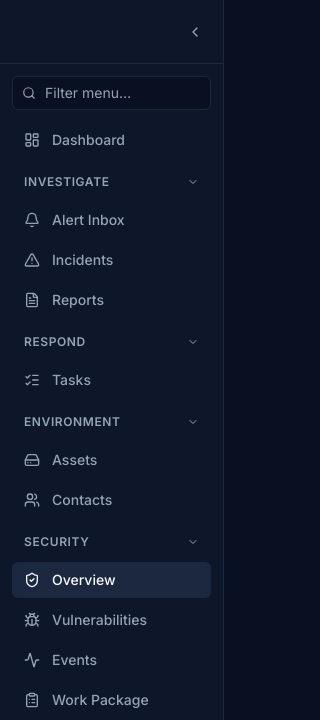
Test: AppSidebar › expands Investigate section again after a second toggle click
Click the button "Investigate" at (112, 182), box 12,166 -> 211,198
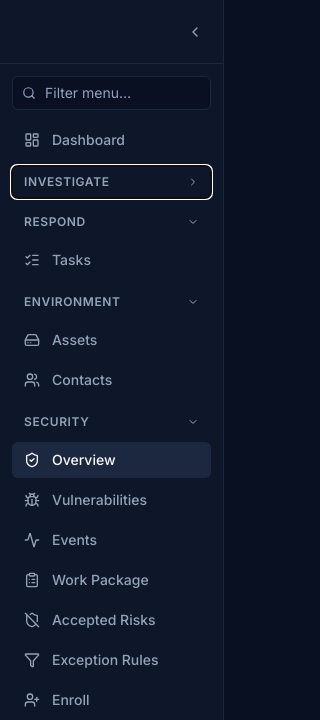
Click the button "Investigate" at (112, 182), box 12,166 -> 211,198
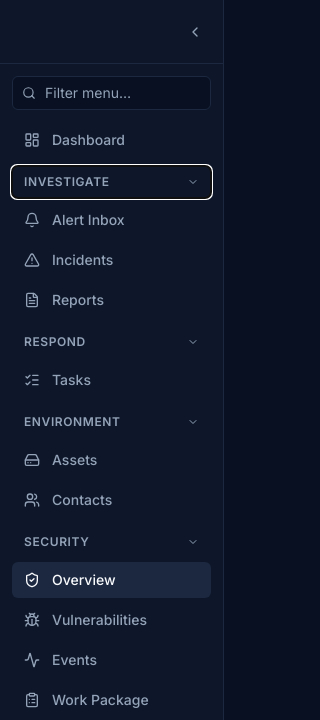
Expected: the link "Incidents" is shown, 24,251 -> 113,268
